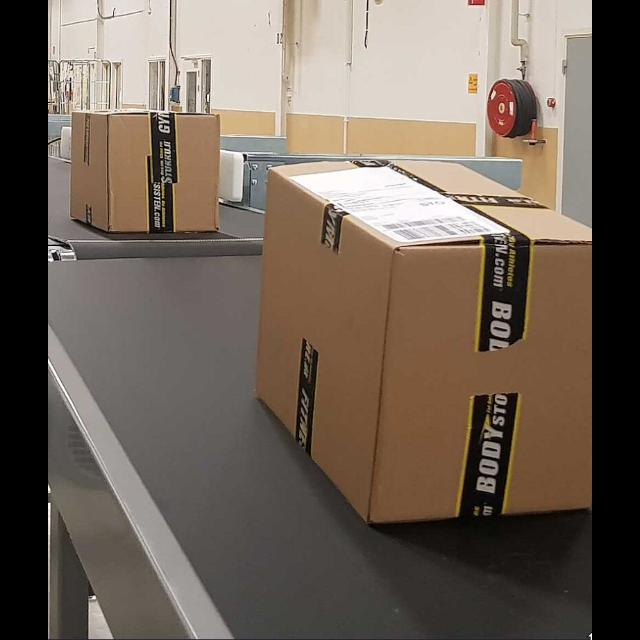box: (257, 160, 593, 522), (70, 110, 220, 236)
